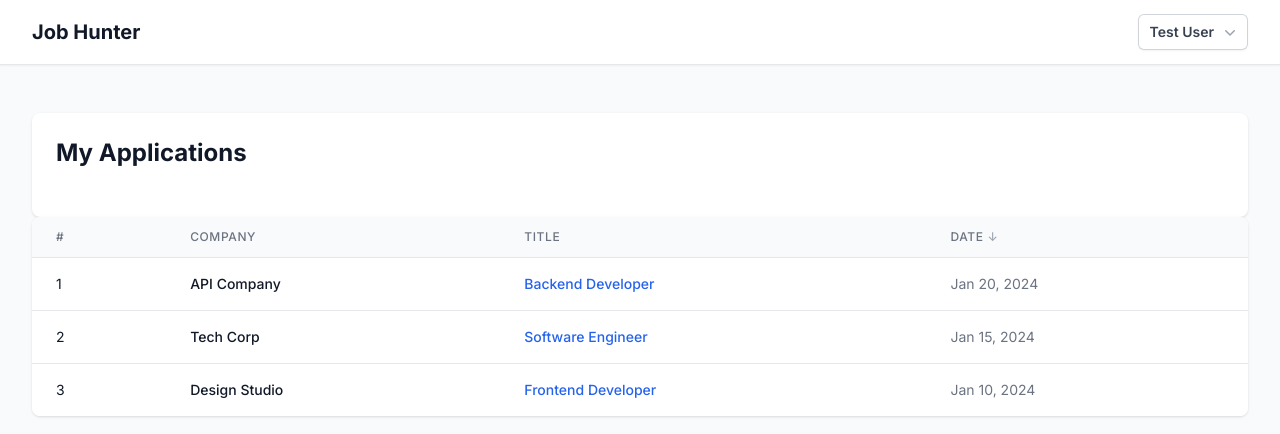
it: ApplicationsPage › Sorting functionality › should sort by title when title header is clicked
Click the text "Title" at (542, 237), box [524,229,560,245]
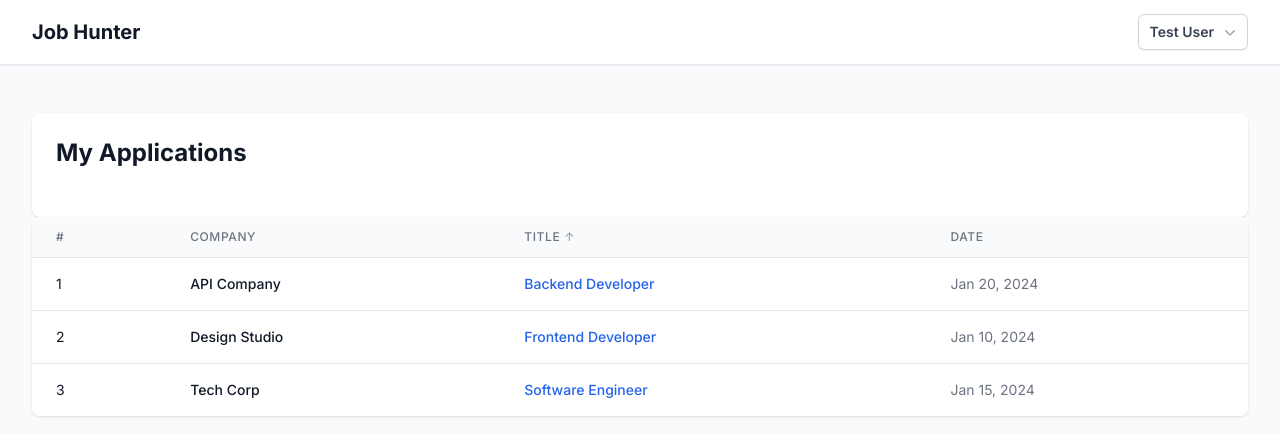
expect the text "↑" is shown: met, box [564,229,575,245]
